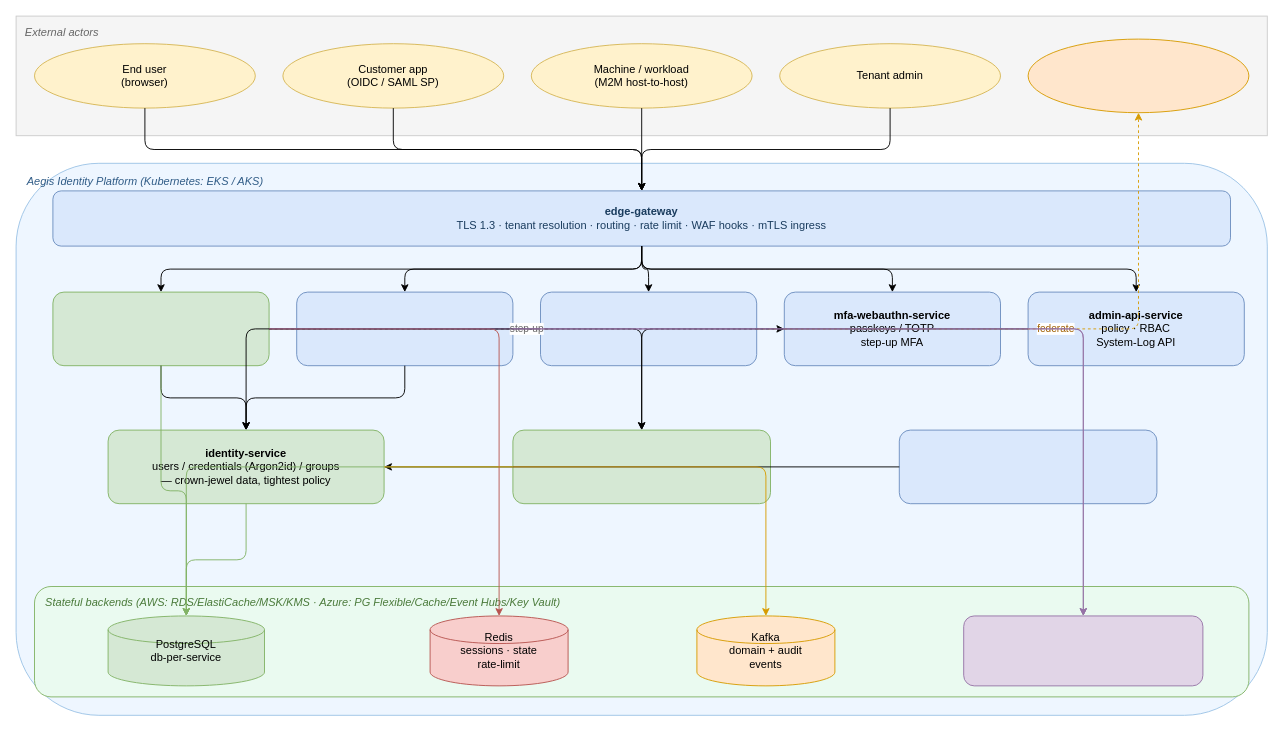
This 1283x731 diagram has some shape labels left out. Here are the shapes that lost their labels. From the top down, the centre of each, then its label:
At (x=1138, y=75): "External IdP Google / Microsoft / Apple / GitHub corporate SAML".
At (x=160, y=328): "authorization-server OIDC / OAuth2 / M2M + interactive login".
At (x=404, y=328): "saml-idp-service custom SAML 2.0 IdP (OpenSAML 5)".
At (x=648, y=328): "social-broker-service inbound federation (social + SAML/OIDC SP)".
At (x=641, y=466): "tenant-service orgs / tenants / domains per-tenant config + key refs".
At (x=1027, y=466): "scim-provisioning-service SCIM 2.0 inbound / outbound".
At (x=1083, y=650): "KMS / Key Vault per-tenant signing keys (envelope encryption)".
